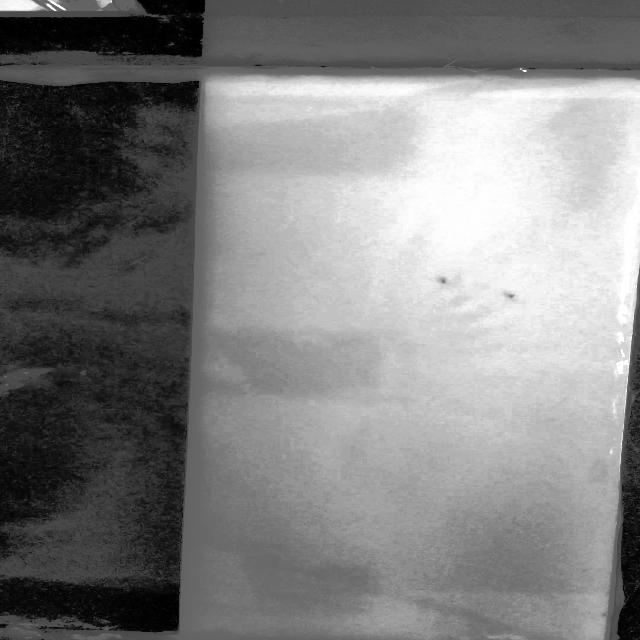shrimp: (430, 264, 461, 290), (489, 286, 528, 305)
